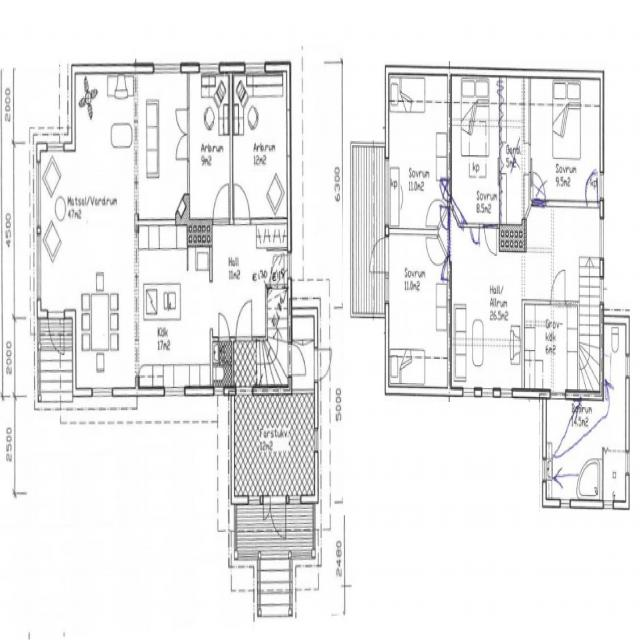door: (48, 310, 64, 354), (270, 496, 286, 538), (234, 183, 250, 225), (370, 238, 389, 273), (213, 184, 229, 225), (236, 302, 252, 341), (288, 344, 306, 376), (314, 350, 332, 380), (551, 267, 565, 304), (271, 254, 284, 288), (435, 254, 451, 281), (436, 201, 451, 228), (587, 174, 598, 207), (468, 222, 480, 252), (219, 313, 229, 341), (263, 495, 270, 519)
